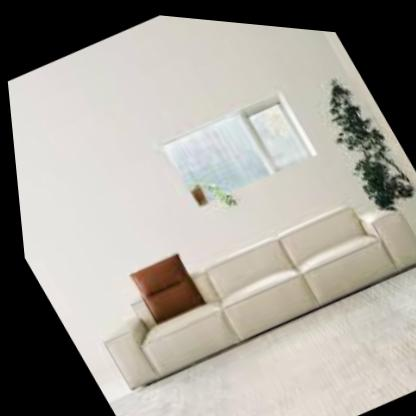Sofa: (36, 121, 416, 416)
